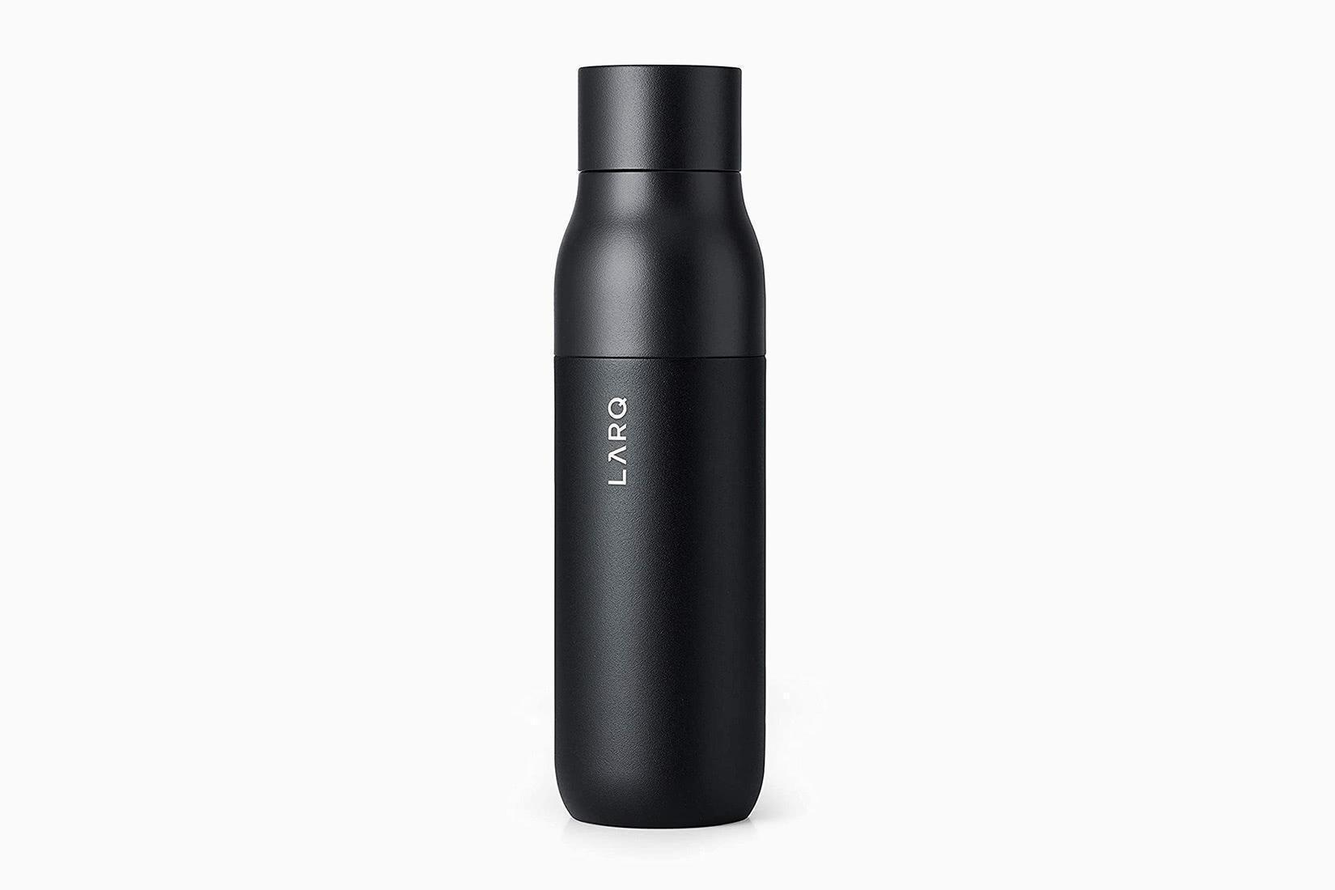gym bottle: (536, 46, 780, 848)
